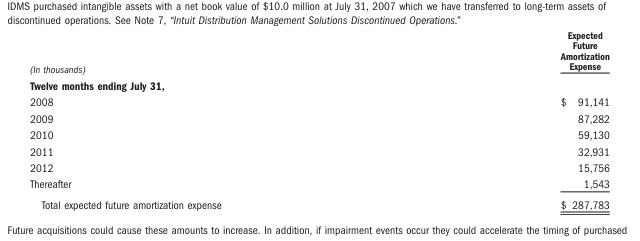table: (29, 29, 608, 210)
table column: (29, 29, 390, 210), (390, 29, 608, 210)
table column header: (29, 29, 608, 76)
table projected row header: (29, 76, 608, 93)
table row: (29, 29, 608, 76), (29, 175, 608, 193), (29, 76, 608, 93), (29, 109, 608, 126), (29, 142, 608, 159), (29, 193, 608, 210), (29, 93, 608, 109), (29, 126, 608, 142), (29, 159, 608, 175)
